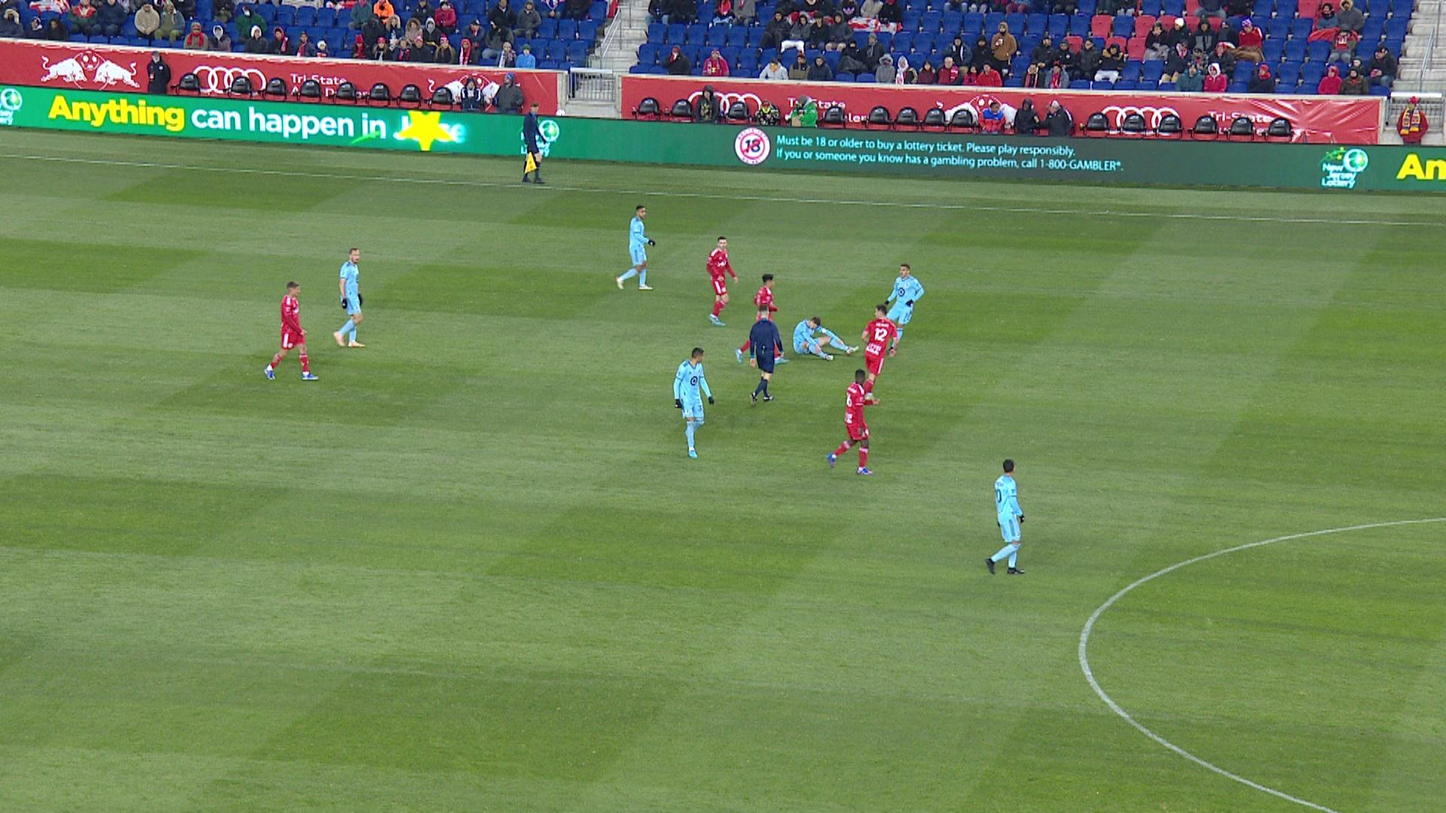Player: (827, 370, 879, 475), (264, 282, 318, 381), (985, 459, 1024, 574), (674, 348, 714, 458), (858, 305, 898, 403), (750, 305, 784, 407), (885, 264, 924, 352), (617, 206, 655, 290), (333, 248, 365, 347), (793, 317, 858, 360), (707, 237, 738, 326)
referee: (735, 274, 789, 364), (523, 103, 546, 183)
